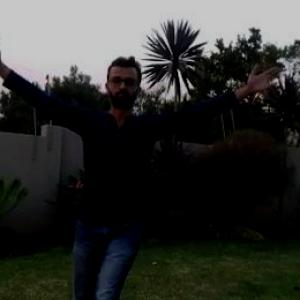takeoff: (0, 47, 283, 299)
